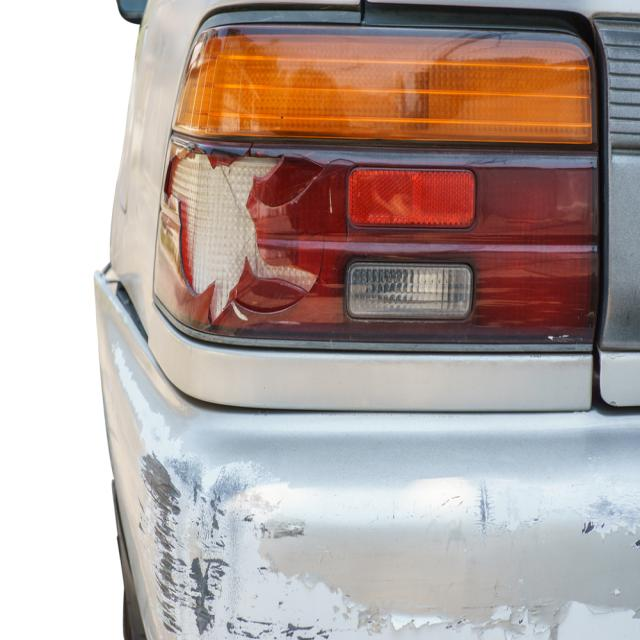lamp broken: (151, 7, 601, 346)
scratch: (110, 339, 640, 640)
